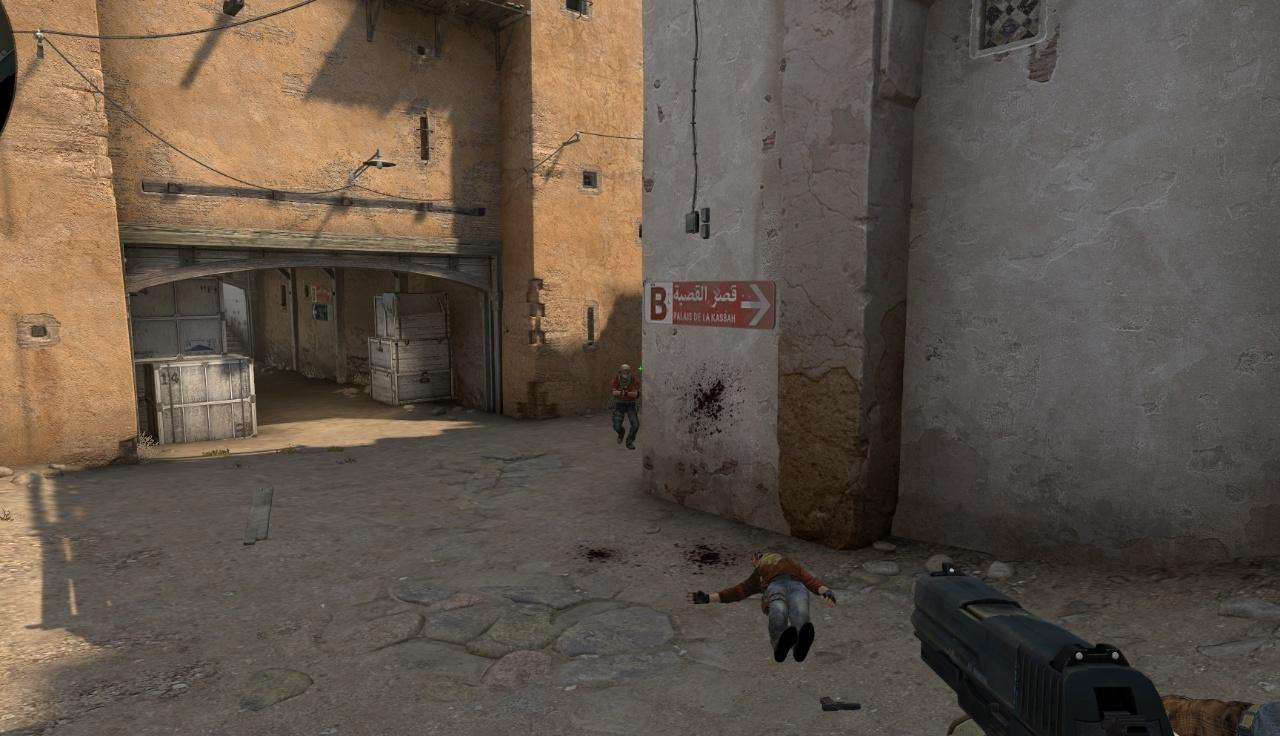pistol: (916, 565, 1173, 736)
tt: (611, 365, 638, 449)
tthead: (620, 364, 631, 380)
